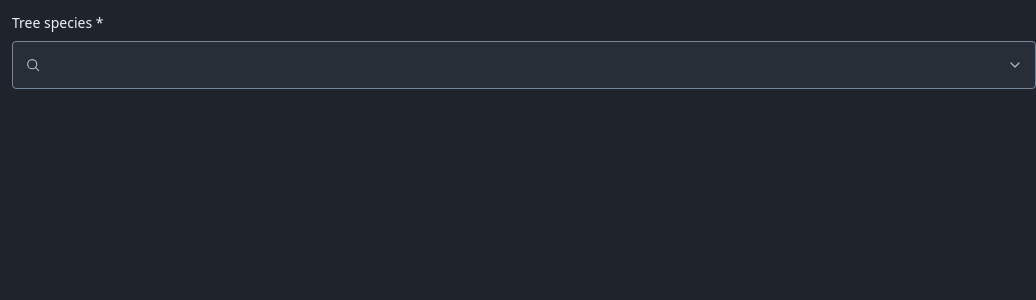
Test case: Combobox › filters options, skips disabled choices, selects with the keyboard, and clears
This screenshot has width=1036, height=300.
Focus the dropdown labelled "Tree species" at x=524, y=65, box [49, 42, 999, 88]
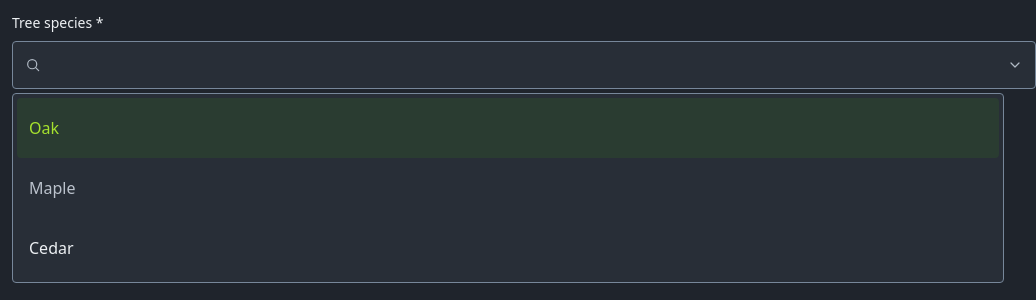
Check: the list is shown
Press ArrowDown in the dropdown labelled "Tree species", box [49, 42, 999, 88]
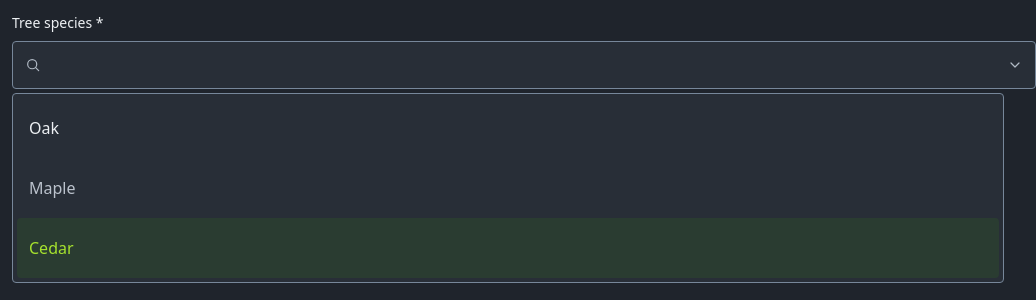
Press Enter in the dropdown labelled "Tree species", box [49, 42, 999, 88]
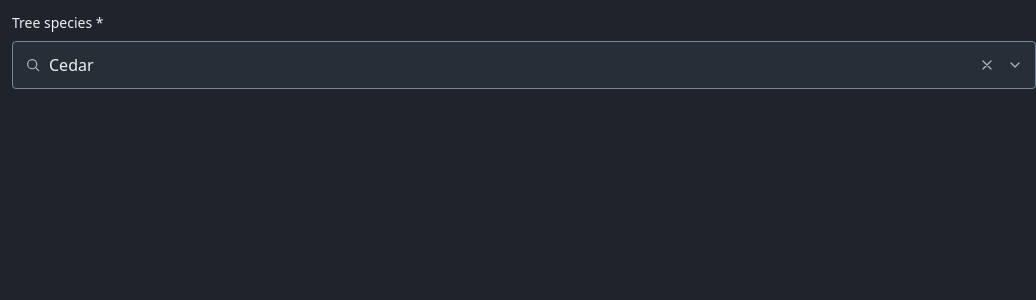
Check: the dropdown labelled "Tree species" holds "Cedar", box [49, 42, 967, 88]
Click the button named "Clear selection" at x=987, y=65, box [975, 53, 999, 77]
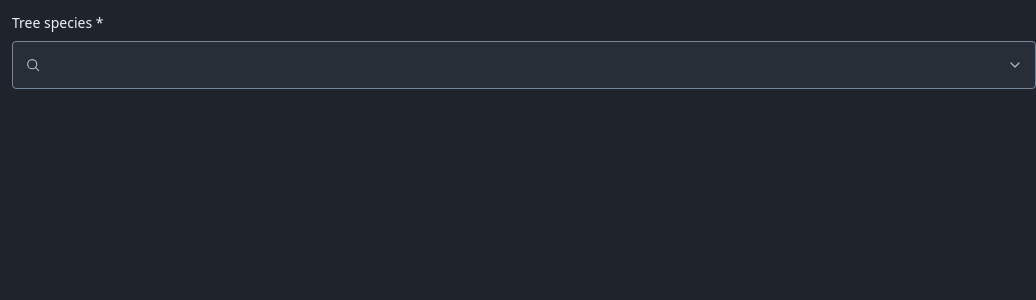
Check: the dropdown labelled "Tree species" is empty, box [49, 42, 999, 88]
